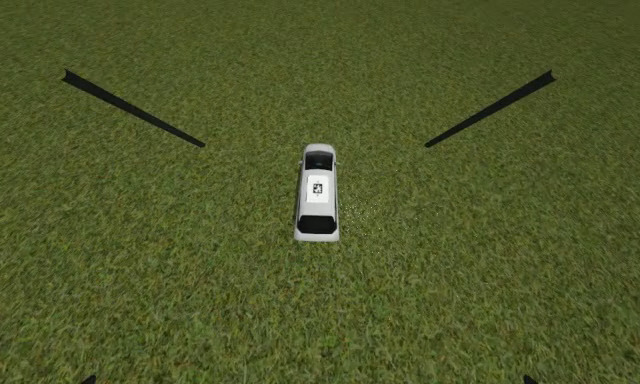Car: (295, 144, 341, 243)
Landing Pad: (306, 174, 329, 204)
